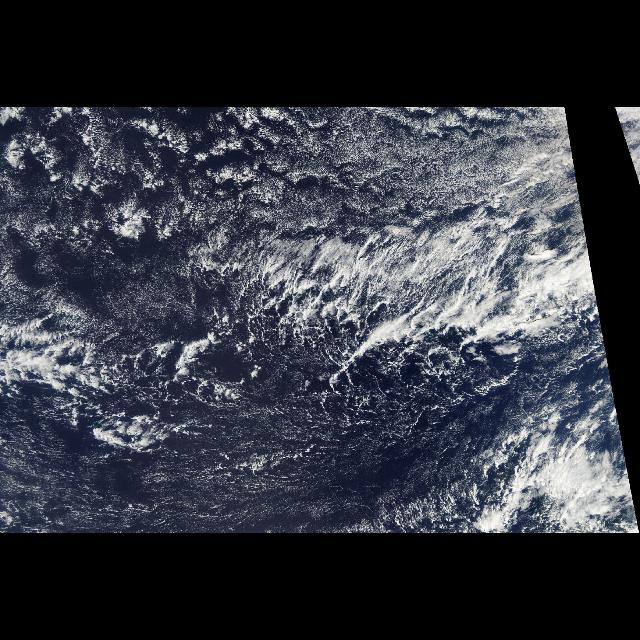Gravel: (240, 278, 526, 396)
Sugar: (5, 108, 558, 242), (4, 406, 474, 532), (8, 246, 232, 346)
